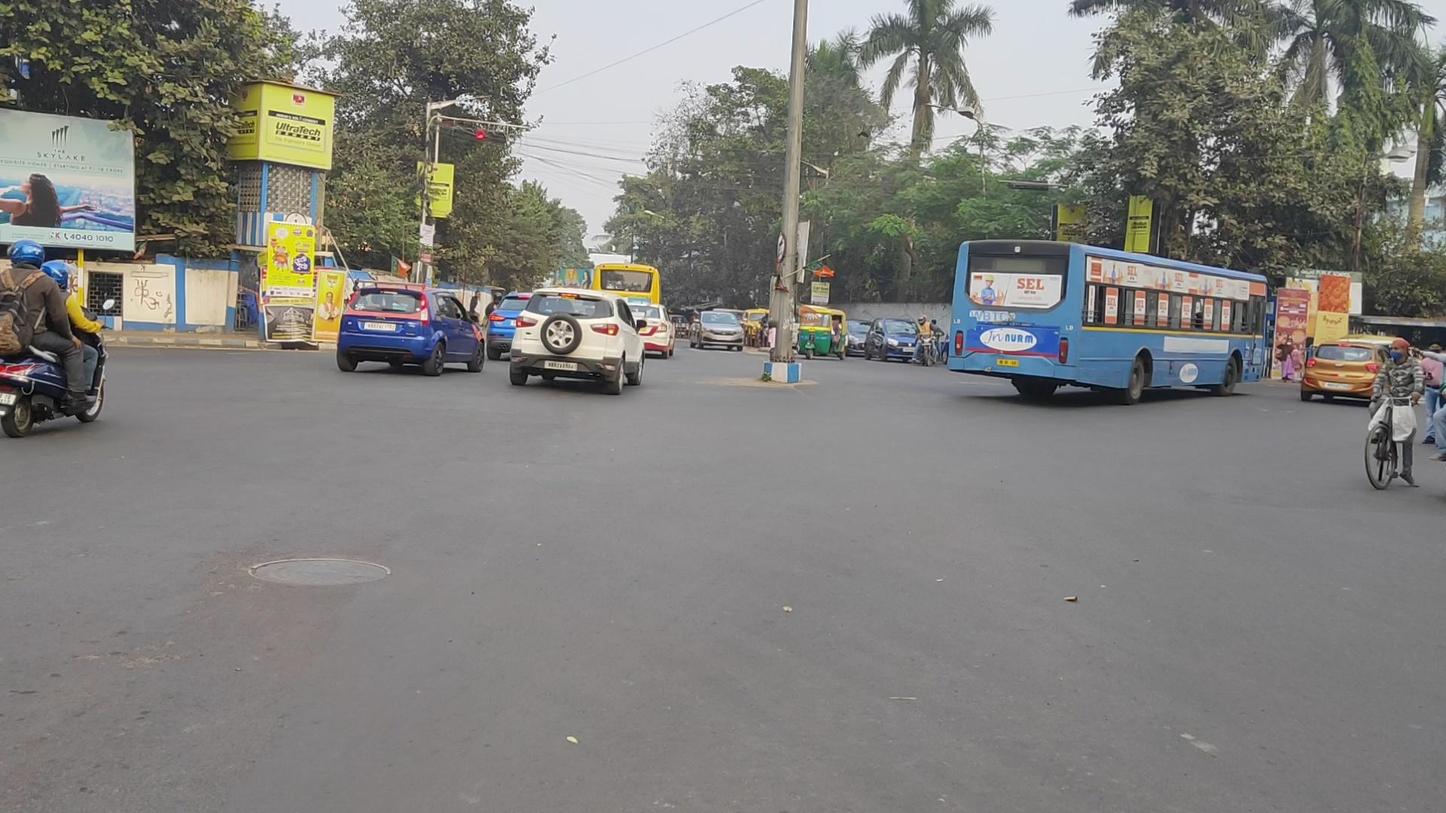Auto: (334, 279, 485, 376), (798, 307, 847, 361)
Bus: (947, 239, 1267, 405), (590, 263, 661, 351)
bike: (1364, 339, 1421, 490), (911, 314, 938, 367)
car: (510, 287, 647, 394), (486, 290, 583, 364), (1300, 339, 1402, 405), (624, 301, 676, 360), (865, 318, 921, 363), (688, 310, 745, 352)
